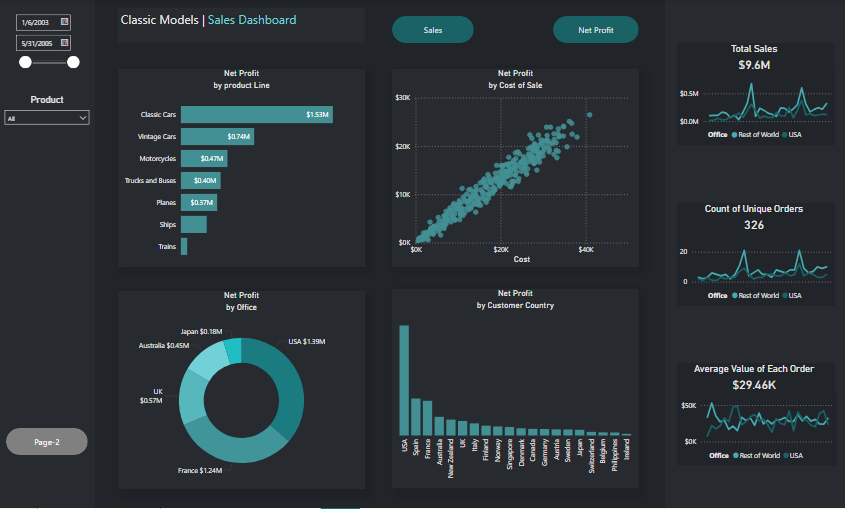

The dashboard page shown, as its layout file describes it:
{"tool":"powerbi","page":{"name":"Sales Overview","canvas":[1500,900],"ordinal":0},"visuals":[{"type":"shape","box":[0,0,170,900],"z":0},{"type":"shape","box":[1179.9,0,320.7,900],"z":1000},{"type":"shape","box":[1201.2,76.2,279,180.7],"z":2000},{"type":"shape","box":[1201.2,643.1,279.9,180.7],"z":3000},{"type":"shape","box":[1201.2,359.6,279.9,180.7],"z":4000},{"type":"card","title":"Total Sales","fields":{"Values":["Sum(classicmodels sales_data_for_power_bi.sales_value)"]},"box":[1201.2,76.2,272.8,58.5],"z":5000},{"type":"card","title":"Count of Unique Orders","fields":{"Values":["Count(classicmodels sales_data_for_power_bi.ordernumber)"]},"box":[1201.2,359.6,272.8,58.5],"z":6000},{"type":"card","title":"Average Value of Each Order","fields":{"Values":["classicmodels sales_data_for_power_bi.Average Sales Value per Order"]},"box":[1201.2,643.1,272.8,58.5],"z":7000},{"type":"lineChart","fields":{"Y":["Sum(classicmodels sales_data_for_power_bi.sales_value)"],"Category":["classicmodels sales_data_for_power_bi.orderdate.Variation.Date Hierarchy.Year","classicmodels sales_data_for_power_bi.orderdate.Variation.Date Hierarchy.Quarter","classicmodels sales_data_for_power_bi.orderdate.Variation.Date Hierarchy.Month"],"Series":["classicmodels sales_data_for_power_bi.Office Grouped"]},"box":[1201.2,122.2,279.9,134.6],"z":8000},{"type":"lineChart","fields":{"Category":["classicmodels sales_data_for_power_bi.orderdate.Variation.Date Hierarchy.Year","classicmodels sales_data_for_power_bi.orderdate.Variation.Date Hierarchy.Quarter","classicmodels sales_data_for_power_bi.orderdate.Variation.Date Hierarchy.Month"],"Series":["classicmodels sales_data_for_power_bi.Office Grouped"],"Y":["Count(classicmodels sales_data_for_power_bi.ordernumber)"]},"box":[1201.8,405,280.4,135.8],"z":9000},{"type":"lineChart","fields":{"Category":["classicmodels sales_data_for_power_bi.orderdate.Variation.Date Hierarchy.Year","classicmodels sales_data_for_power_bi.orderdate.Variation.Date Hierarchy.Quarter","classicmodels sales_data_for_power_bi.orderdate.Variation.Date Hierarchy.Month"],"Series":["classicmodels sales_data_for_power_bi.Office Grouped"],"Y":["classicmodels sales_data_for_power_bi.Average Sales Value per Order"]},"box":[1202.2,690.6,280.6,133.8],"z":10000},{"type":"actionButton","box":[696.3,28.3,145.3,47.8],"z":11000},{"type":"actionButton","box":[981.5,28.3,152.4,47.8],"z":12000},{"type":"clusteredBarChart","fields":{"Category":["classicmodels sales_data_for_power_bi.productLine"],"Y":["Table.Selected Metric"]},"box":[210.8,122.2,437.6,350.8],"z":14000},{"type":"scatterChart","fields":{"Category":["classicmodels sales_data_for_power_bi.ordernumber"],"X":["Sum(classicmodels sales_data_for_power_bi.cost_of_sales)"],"Y":["Table.Selected Metric"]},"box":[696.3,122.2,437.6,350.8],"z":15000},{"type":"donutChart","fields":{"Y":["Table.Selected Metric"],"Category":["classicmodels sales_data_for_power_bi.office_country"]},"box":[210.8,515.6,437.6,350.8],"z":16000},{"type":"columnChart","fields":{"Category":["classicmodels sales_data_for_power_bi.customer_country"],"Y":["Table.Selected Metric"]},"box":[695.7,512.1,437.2,352.7],"z":17000},{"type":"textbox","box":[210.8,14.2,437.6,62],"z":18000},{"type":"actionButton","box":[12.4,758.3,145.3,47.8],"z":19000},{"type":"slicer","fields":{"Values":["classicmodels sales_data_for_power_bi.orderdate"]},"box":[17.7,15.9,134.6,150.6],"z":19001},{"type":"slicer","title":"Product","fields":{"Values":["classicmodels sales_data_for_power_bi.productName"]},"box":[0,166.5,170.2,173.9],"z":19002}]}

Visuals, with their boxes in screenshot pixels (x1, y1, x2, y2), scaled from the page's 1500x900 canvas onto the 845x509 screenshot:
shape: {"x1": 0, "y1": 0, "x2": 96, "y2": 508}
shape: {"x1": 665, "y1": 0, "x2": 844, "y2": 508}
shape: {"x1": 677, "y1": 43, "x2": 834, "y2": 145}
shape: {"x1": 677, "y1": 364, "x2": 834, "y2": 466}
shape: {"x1": 677, "y1": 203, "x2": 834, "y2": 306}
"Total Sales" card: {"x1": 677, "y1": 43, "x2": 830, "y2": 76}
"Count of Unique Orders" card: {"x1": 677, "y1": 203, "x2": 830, "y2": 236}
"Average Value of Each Order" card: {"x1": 677, "y1": 364, "x2": 830, "y2": 397}
lineChart - Sum(classicmodels sales_data_for_power_bi.sales_value) x classicmodels sales_data_for_power_bi.orderdate.Variation.Date Hierarchy.Year: {"x1": 677, "y1": 69, "x2": 834, "y2": 145}
lineChart - classicmodels sales_data_for_power_bi.orderdate.Variation.Date Hierarchy.Year x classicmodels sales_data_for_power_bi.orderdate.Variation.Date Hierarchy.Quarter: {"x1": 677, "y1": 229, "x2": 835, "y2": 306}
lineChart - classicmodels sales_data_for_power_bi.orderdate.Variation.Date Hierarchy.Year x classicmodels sales_data_for_power_bi.orderdate.Variation.Date Hierarchy.Quarter: {"x1": 677, "y1": 391, "x2": 835, "y2": 466}
actionButton: {"x1": 392, "y1": 16, "x2": 474, "y2": 43}
actionButton: {"x1": 553, "y1": 16, "x2": 639, "y2": 43}
clusteredBarChart - classicmodels sales_data_for_power_bi.productLine x Table.Selected Metric: {"x1": 119, "y1": 69, "x2": 365, "y2": 268}
scatterChart - classicmodels sales_data_for_power_bi.ordernumber x Sum(classicmodels sales_data_for_power_bi.cost_of_sales): {"x1": 392, "y1": 69, "x2": 639, "y2": 268}
donutChart - Table.Selected Metric x classicmodels sales_data_for_power_bi.office_country: {"x1": 119, "y1": 292, "x2": 365, "y2": 490}
columnChart - classicmodels sales_data_for_power_bi.customer_country x Table.Selected Metric: {"x1": 392, "y1": 290, "x2": 638, "y2": 489}
textbox: {"x1": 119, "y1": 8, "x2": 365, "y2": 43}
actionButton: {"x1": 7, "y1": 429, "x2": 89, "y2": 456}
slicer - classicmodels sales_data_for_power_bi.orderdate: {"x1": 10, "y1": 9, "x2": 86, "y2": 94}
"Product" slicer: {"x1": 0, "y1": 94, "x2": 96, "y2": 193}
